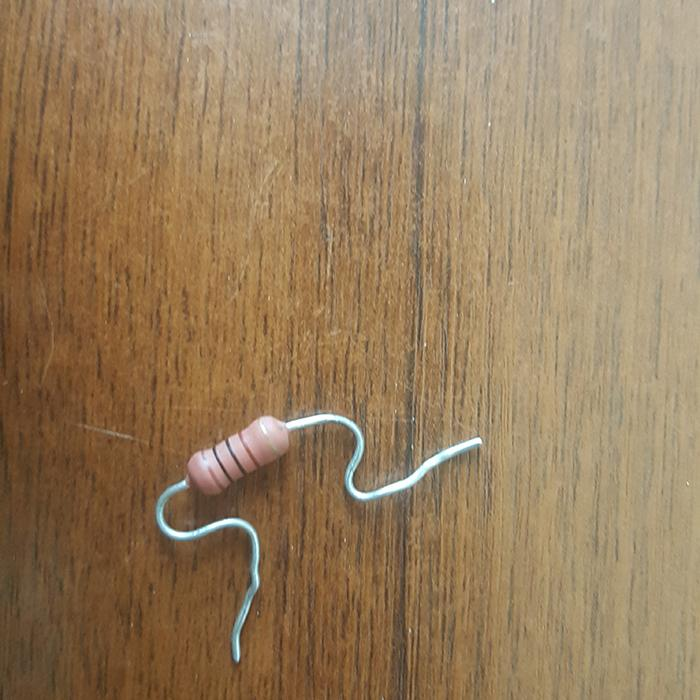resistor: (185, 414, 291, 495)
